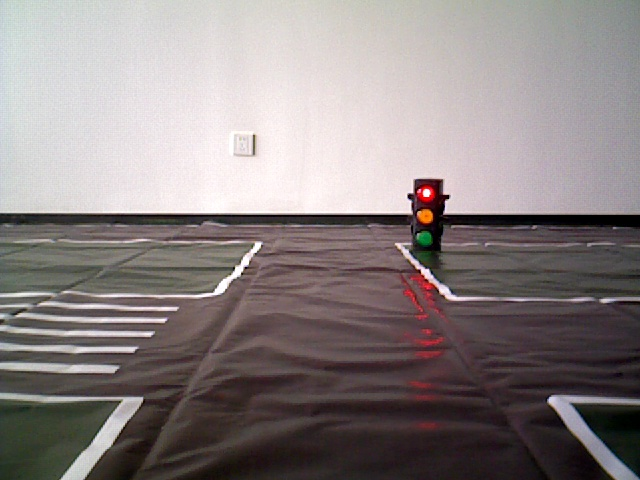red: (411, 180, 438, 247)
